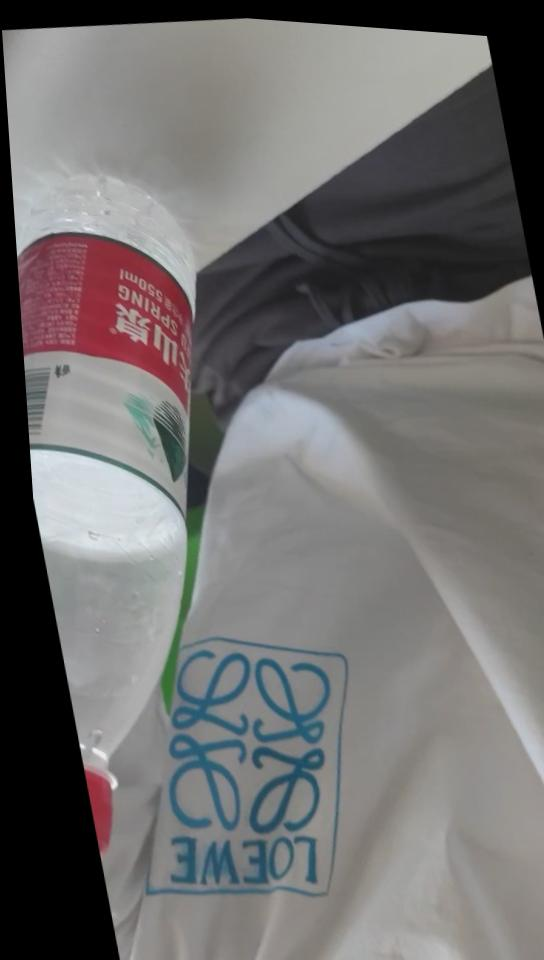plastic: (26, 234, 543, 959), (19, 173, 194, 959)
